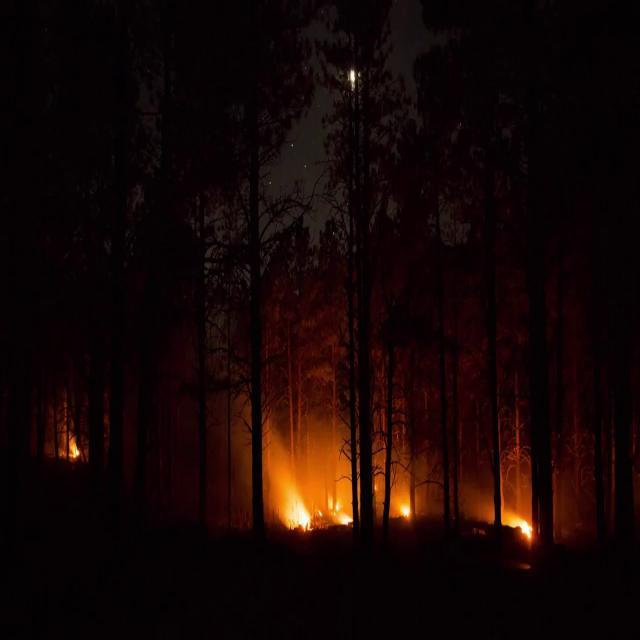Fire: (287, 501, 311, 530)
